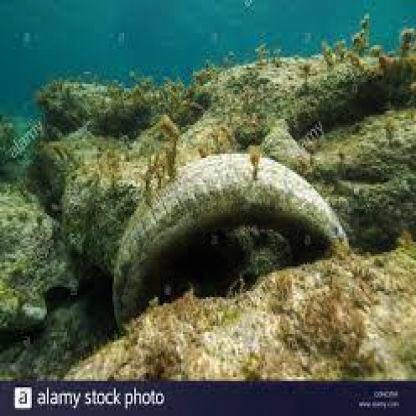tire: (96, 146, 379, 334)
